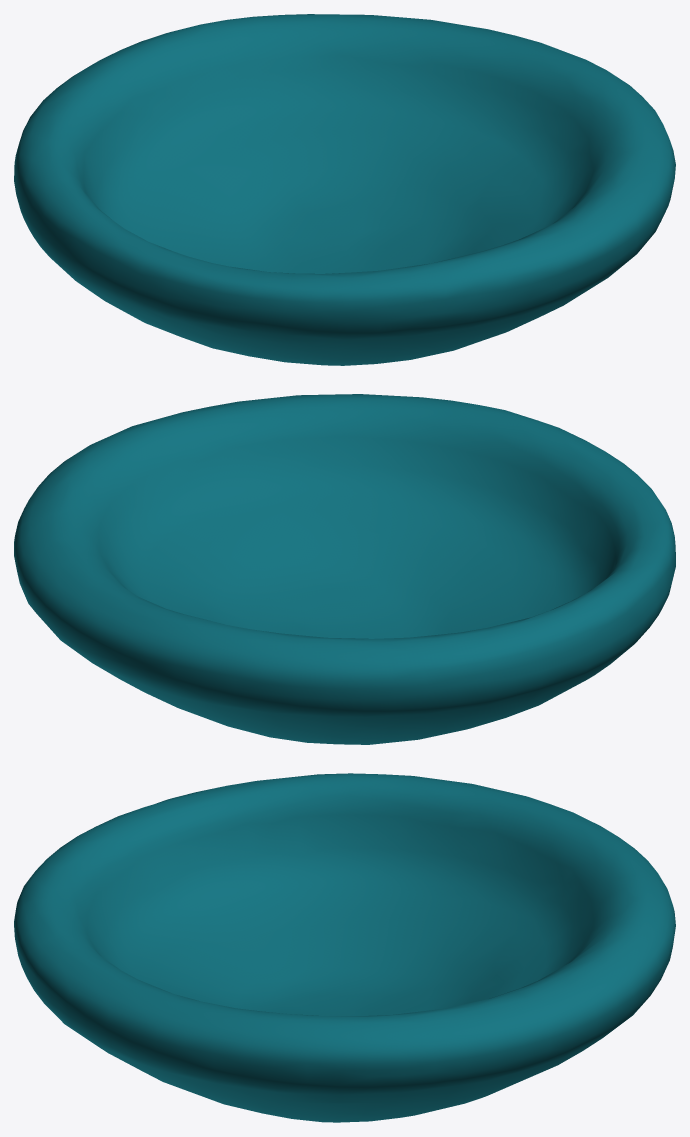
File: stockholm_2025_miska_10590465.glb
3 views of the same model, one above another, from view 1: azimuth 30°, elevation 25°; view 2: azimuth 150°, elevation 25°; view 3: azimuth 270°, elevation 25° (orthographic).
Visible parts, largest first — view 1: stockholm_2025_miska_10590465; view 2: stockholm_2025_miska_10590465; view 3: stockholm_2025_miska_10590465.
Part boxes in pixels (box(x1,y1,x2,y2)): stockholm_2025_miska_10590465: box(14, 14, 675, 365); stockholm_2025_miska_10590465: box(14, 394, 675, 744); stockholm_2025_miska_10590465: box(14, 773, 675, 1122).
Bounding box in the file's own units: 0.3406 × 0.0999 × 0.3409.
1 material, 1 textured.
